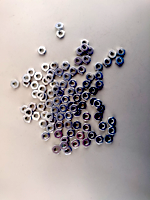nut: (104, 135, 114, 144), (94, 112, 103, 122), (87, 131, 97, 140), (82, 138, 91, 148), (82, 123, 91, 133), (52, 145, 61, 155), (41, 131, 50, 141), (25, 108, 34, 118), (59, 80, 68, 90), (22, 79, 32, 88), (108, 117, 117, 126), (98, 122, 107, 131), (82, 112, 91, 121), (73, 121, 82, 130), (60, 142, 69, 151), (54, 130, 63, 139), (55, 122, 64, 131), (46, 124, 55, 133), (56, 113, 65, 122), (11, 80, 20, 89), (41, 111, 50, 120), (23, 114, 32, 123), (28, 103, 37, 112), (38, 47, 47, 56), (116, 57, 125, 66), (103, 58, 112, 67), (95, 71, 104, 80), (95, 80, 104, 89), (76, 47, 85, 56), (74, 57, 83, 66), (94, 100, 103, 109), (73, 94, 82, 103), (51, 106, 60, 115), (53, 97, 62, 106), (61, 95, 70, 104), (63, 73, 72, 82), (52, 85, 61, 94), (56, 89, 65, 98), (47, 89, 56, 98), (31, 90, 40, 99), (22, 74, 31, 83), (30, 81, 39, 90), (34, 72, 43, 81), (96, 135, 104, 145), (72, 139, 80, 149), (67, 129, 75, 139), (109, 50, 117, 60), (70, 104, 78, 114), (45, 100, 55, 108), (76, 132, 85, 140), (64, 146, 72, 155), (64, 121, 72, 130), (39, 120, 47, 129), (48, 116, 56, 125), (45, 113, 54, 121), (32, 112, 40, 121), (20, 105, 28, 114), (37, 103, 46, 111), (55, 23, 64, 31), (95, 62, 103, 71), (86, 73, 94, 82), (78, 66, 86, 75), (83, 55, 91, 64), (86, 46, 94, 55), (81, 39, 89, 48), (70, 67, 78, 76), (89, 86, 97, 95), (97, 104, 105, 113), (82, 92, 90, 101), (78, 102, 87, 110), (59, 105, 68, 113), (67, 102, 76, 110), (67, 88, 76, 96), (83, 80, 91, 89), (69, 79, 77, 88), (56, 68, 64, 77), (50, 62, 59, 70), (42, 63, 50, 72), (38, 85, 47, 93), (26, 69, 35, 77), (108, 127, 116, 135), (61, 137, 69, 145), (65, 112, 73, 120), (57, 30, 65, 38), (118, 48, 126, 56), (81, 44, 89, 52), (62, 62, 70, 70), (90, 98, 98, 106), (74, 109, 82, 117), (76, 86, 84, 94), (45, 74, 53, 82), (40, 94, 48, 102), (42, 77, 50, 85), (37, 91, 44, 100), (48, 69, 55, 77), (50, 80, 58, 87)
